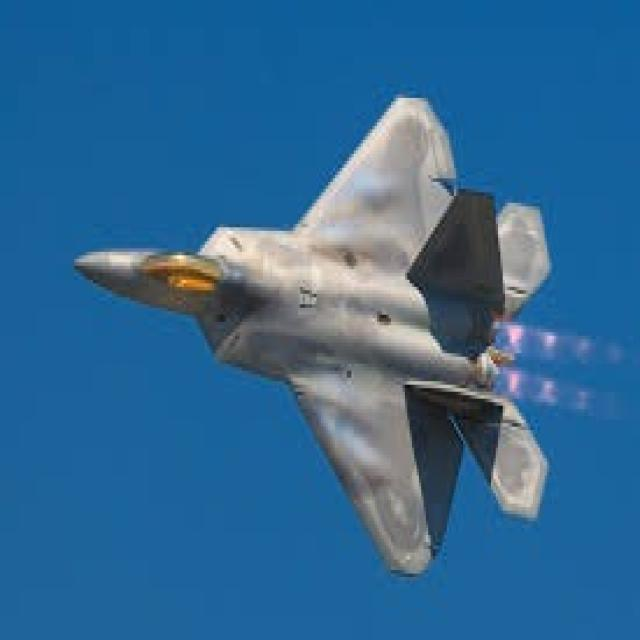F22: (32, 69, 640, 585)
